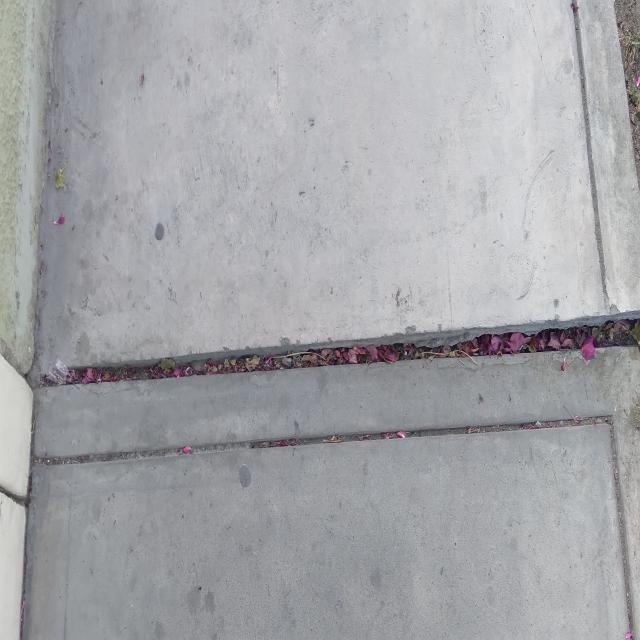hole: (23, 302, 640, 389)
